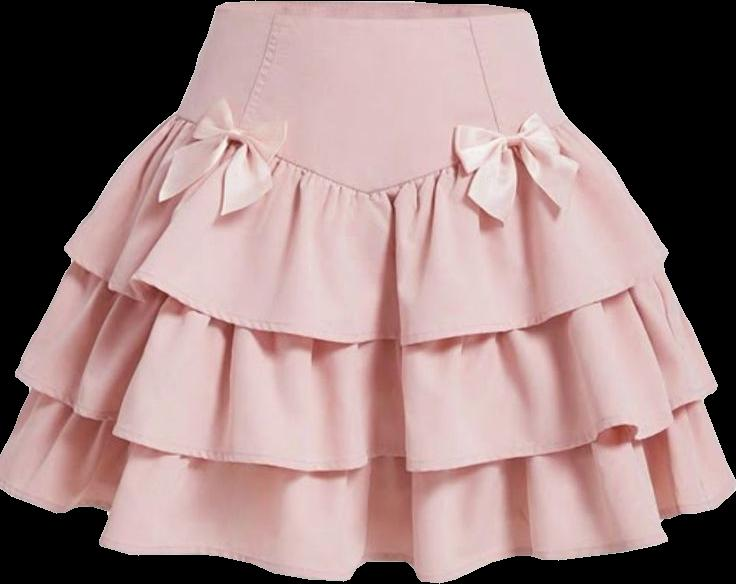Hemline: (11, 370, 719, 475), (0, 482, 735, 583), (61, 244, 669, 347)
Waistline: (173, 110, 567, 197), (213, 4, 525, 27)
